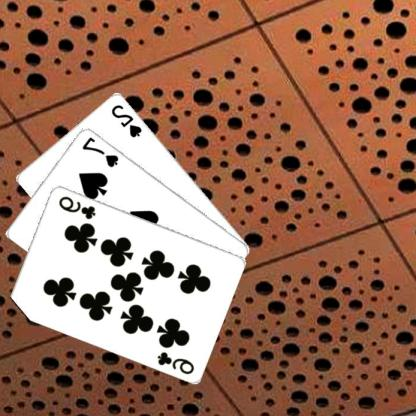2S: (110, 101, 145, 138)
7S: (82, 134, 122, 168)
9C: (57, 193, 99, 221), (156, 349, 197, 375)
